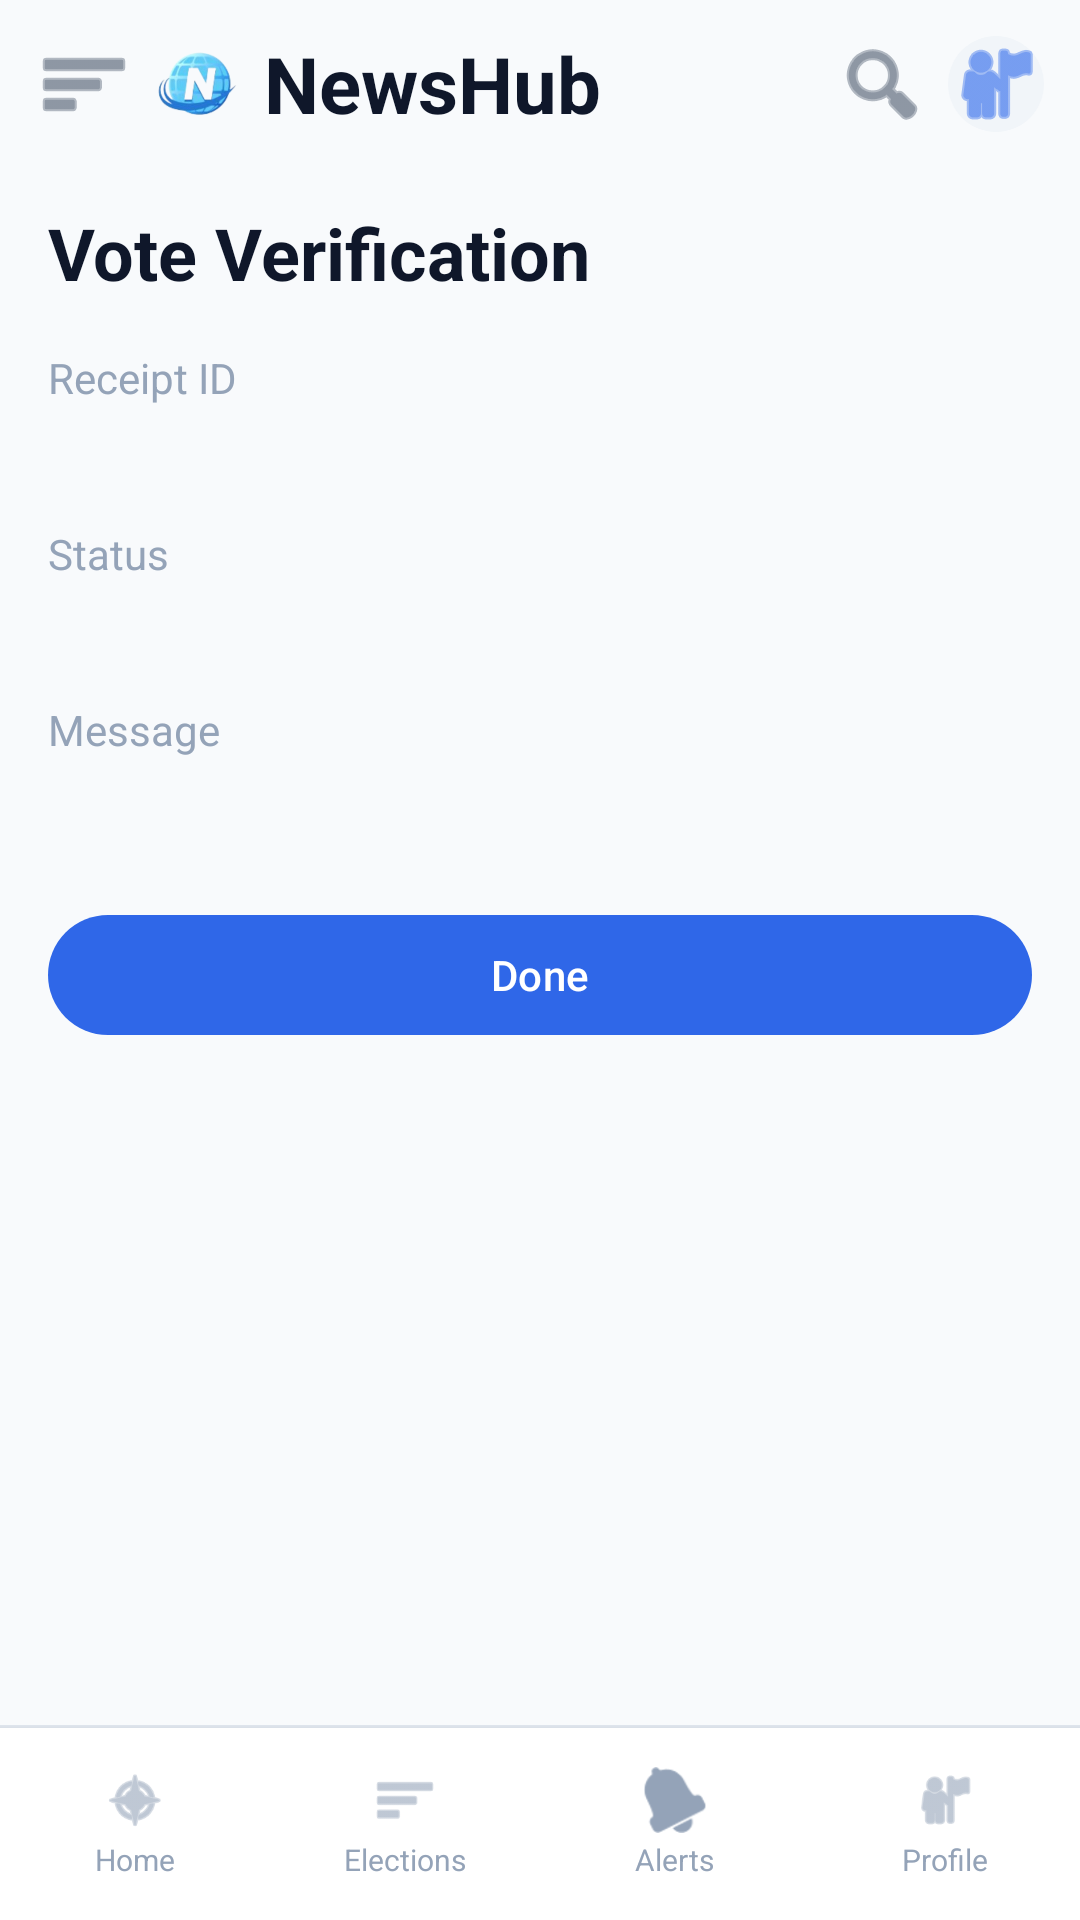

Where icons sit on this 1080w x 1920h app screen, as (x1, y1, x2, y2):
compass: (109, 1775, 161, 1826)
Open menu: (43, 58, 125, 111)
popup reminder: (644, 1767, 706, 1833)
Profile: (961, 48, 1033, 120)
sort by size: (377, 1782, 433, 1819)
